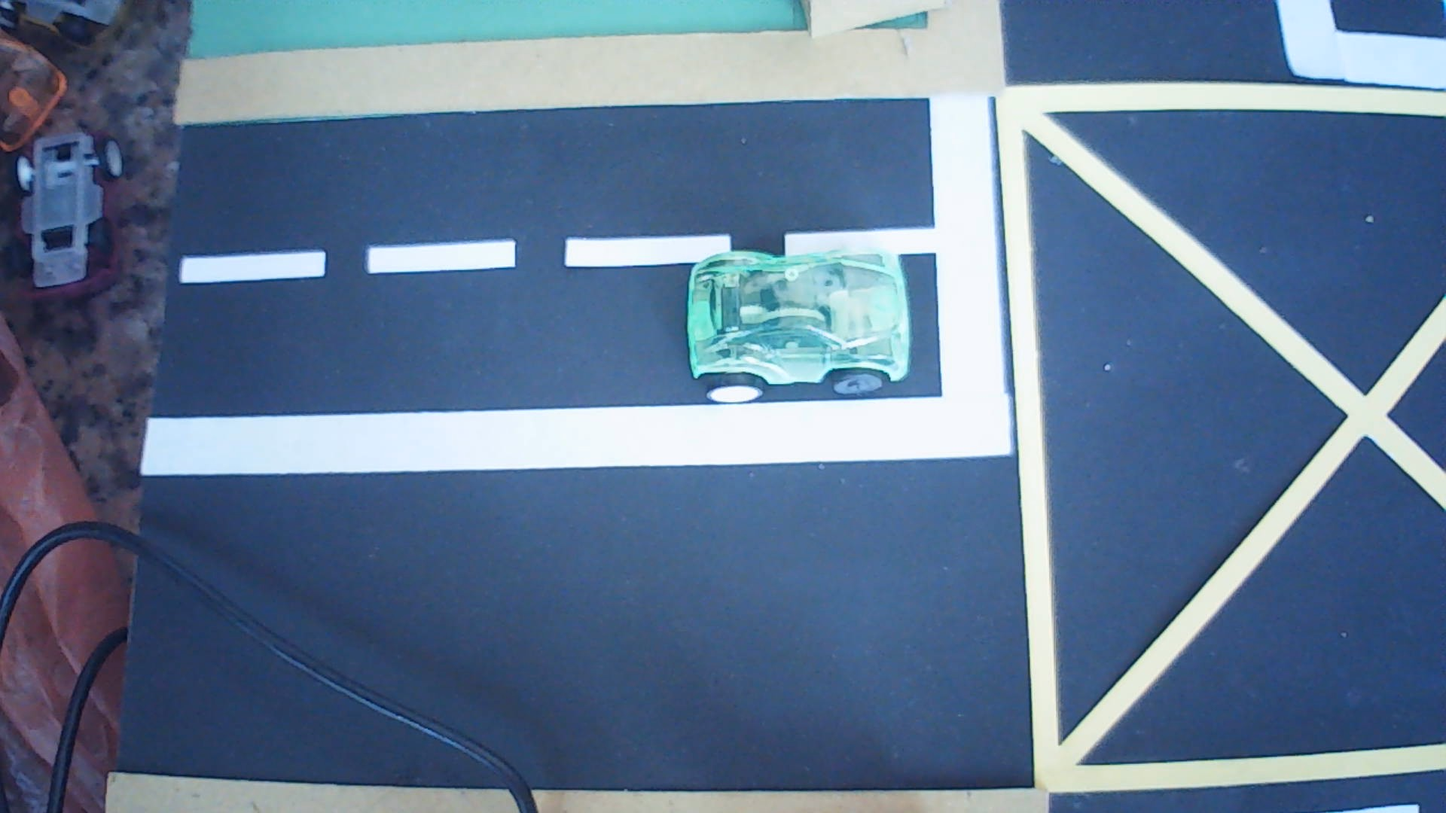Mobil hijau: (686, 250, 911, 403)
